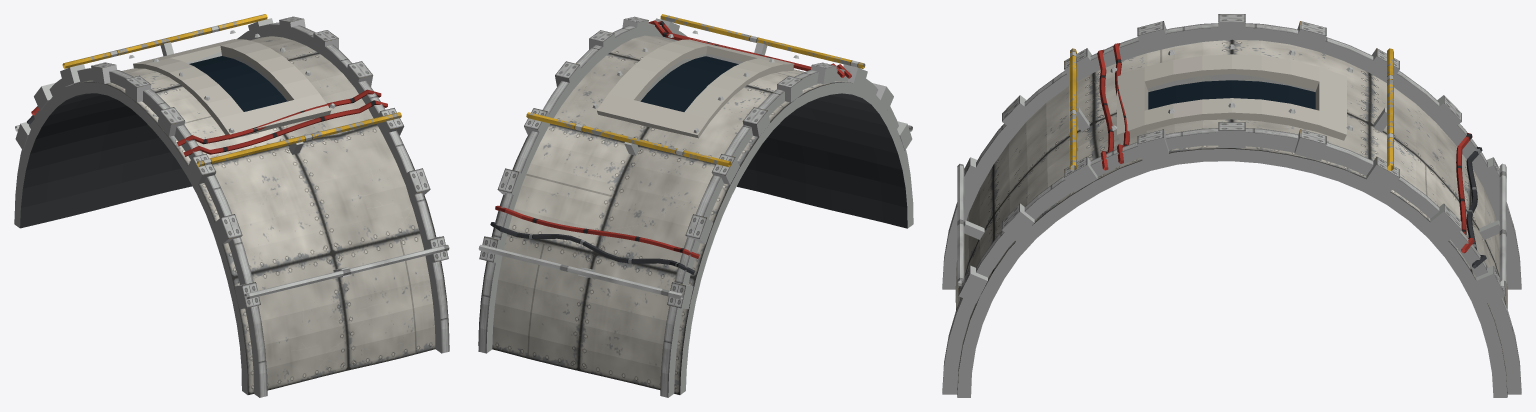
File: hull_window.fbx
3 views of the same model, side by side, from view 1: azimuth 30°, elevation 25°; view 2: azimuth 150°, elevation 25°; view 3: azimuth 270°, elevation 25° (orthographic). The views are drawn at different scales.
Parts seen in each view (by area): view 1: hull_window; view 2: hull_window; view 3: hull_window.
Part boxes in pixels (x1,y1,x2,y2): hull_window: (14,14,449,397); hull_window: (478,14,913,397); hull_window: (942,14,1521,397).
Size of the model in its own units: 1.01 by 1.07 by 2.1.
1 material, 1 textured.
